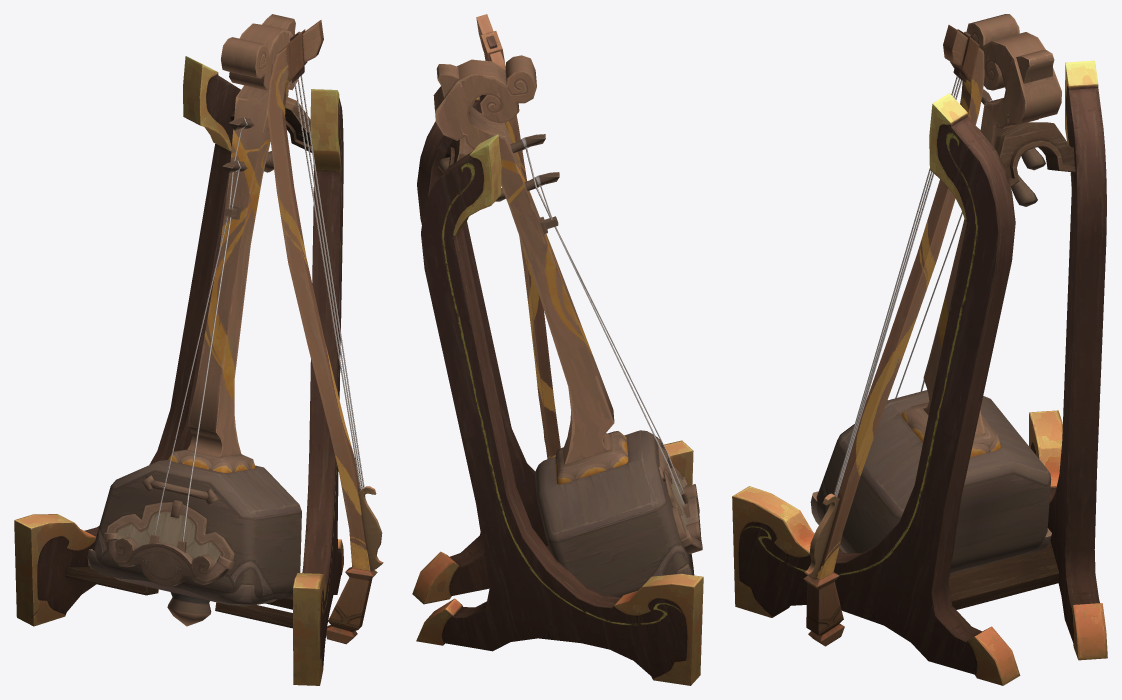
Rendered from Homeworld_Exterior_Ly_Thing_Prop_OperaJean_01_Lod0.fbx.
The picture shows the model from 3 angles, left to right: view 1: azimuth 30°, elevation 25°; view 2: azimuth 150°, elevation 25°; view 3: azimuth 270°, elevation 25°; orthographic projection. The views are drawn at different scales.
Parts seen in each view (by area): view 1: Homeworld_Exterior_Ly_Thing_Prop_OperaJean_01_Lod0, Property_Prop_Musical_02_Lod0; view 2: Homeworld_Exterior_Ly_Thing_Prop_OperaJean_01_Lod0, Property_Prop_Musical_02_Lod0; view 3: Homeworld_Exterior_Ly_Thing_Prop_OperaJean_01_Lod0, Property_Prop_Musical_02_Lod0.
Part boxes in pixels (x1=…): Homeworld_Exterior_Ly_Thing_Prop_OperaJean_01_Lod0: x1=14, y1=20, x2=383, y2=685; Property_Prop_Musical_02_Lod0: x1=87, y1=14, x2=301, y2=626; Homeworld_Exterior_Ly_Thing_Prop_OperaJean_01_Lod0: x1=412, y1=14, x2=703, y2=685; Property_Prop_Musical_02_Lod0: x1=433, y1=55, x2=702, y2=597; Homeworld_Exterior_Ly_Thing_Prop_OperaJean_01_Lod0: x1=732, y1=25, x2=1107, y2=685; Property_Prop_Musical_02_Lod0: x1=810, y1=14, x2=1061, y2=573.
Bounding box in the file's own units: 0.6421 × 1.15 × 0.6165.
